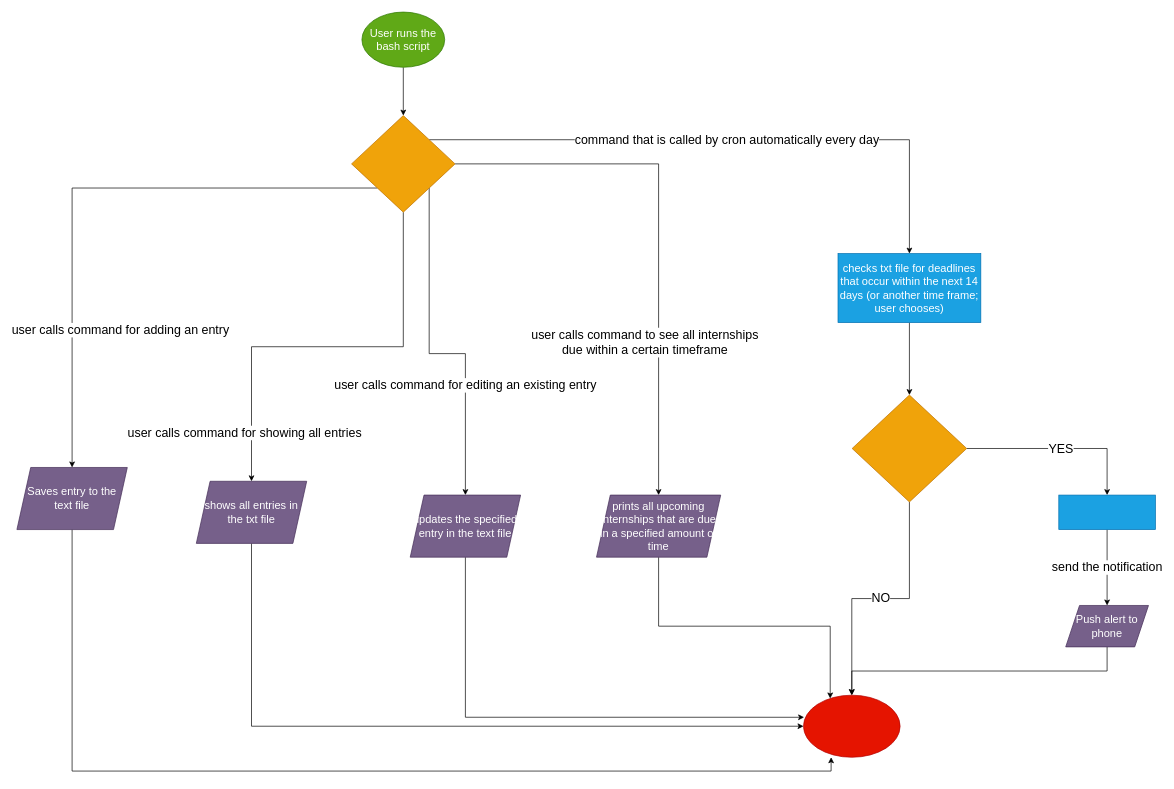
Image size: 1174x789. Some labels were removed from this diagram. Each missing label, with the centre of its shape:
Are there any internships/jobs that are due soon?: point 909,448
END: point 851,725
use ntfy to send alert: point 1106,512
Which command is called?: point 403,163
